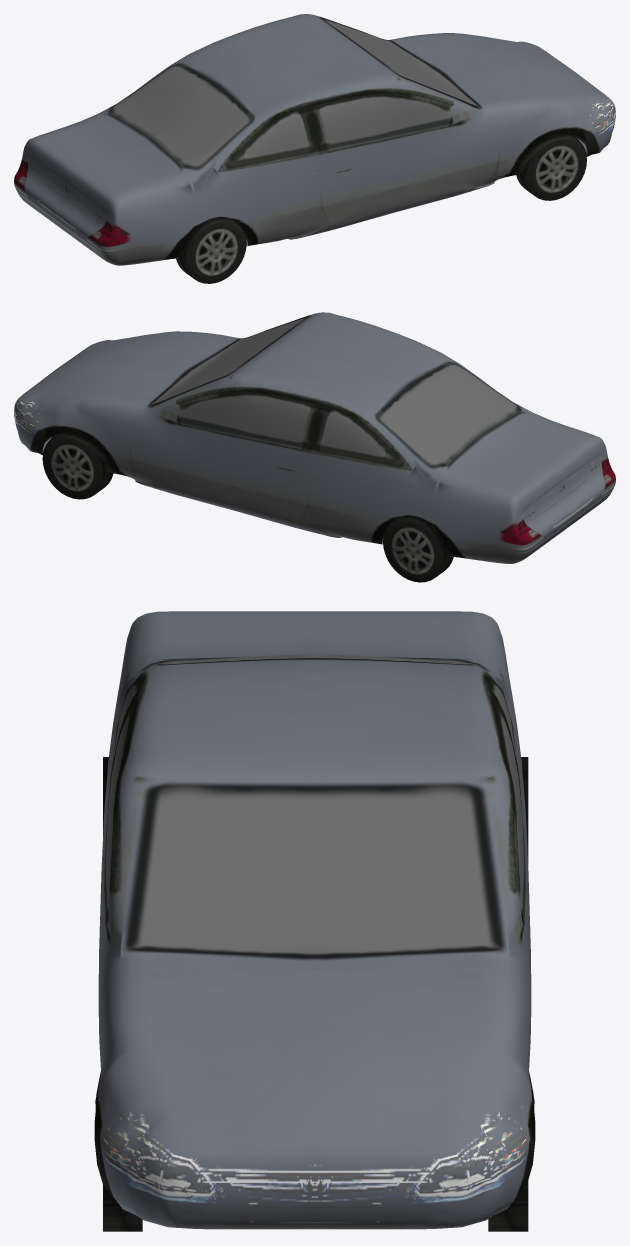
File: hondacivic.fbx
3 renders of one model, top to bottom at view 1: azimuth 30°, elevation 25°; view 2: azimuth 150°, elevation 25°; view 3: azimuth 270°, elevation 25°, orthographic. The views are drawn at different scales.
Parts seen in each view (by area): view 1: BezierCurve.001, Cylinder.004, Cylinder.001; view 2: BezierCurve.001, Cylinder.003, Cylinder.002; view 3: BezierCurve.001, Cylinder.002, Cylinder.001.
Part boxes in pixels (box(x1,y1,x2,y2)): BezierCurve.001: box(14, 14, 615, 265); Cylinder.004: box(176, 216, 246, 283); Cylinder.001: box(516, 137, 586, 200); BezierCurve.001: box(14, 312, 615, 563); Cylinder.003: box(383, 515, 453, 582); Cylinder.002: box(42, 436, 113, 499); BezierCurve.001: box(94, 611, 535, 1229); Cylinder.002: box(488, 1181, 528, 1231); Cylinder.001: box(103, 1184, 142, 1231).
Size of the model in its own units: 318 by 89.95 by 116.
Materials: 5 (5 with a texture image).
